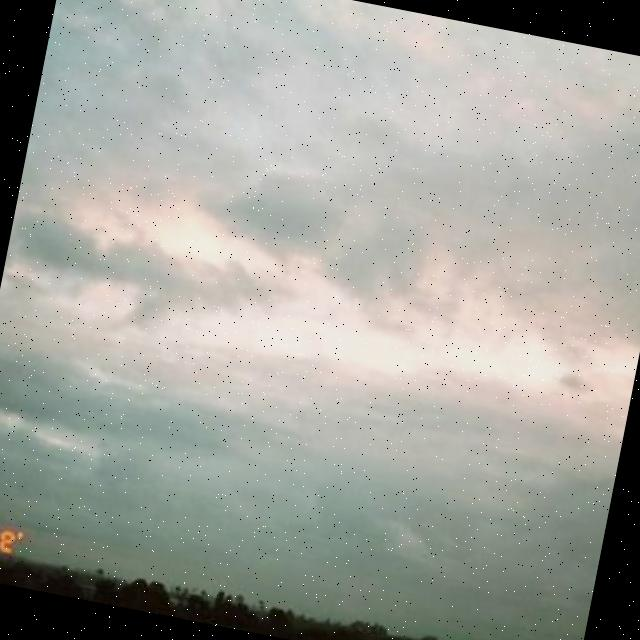Sc: (1, 1, 640, 601)
